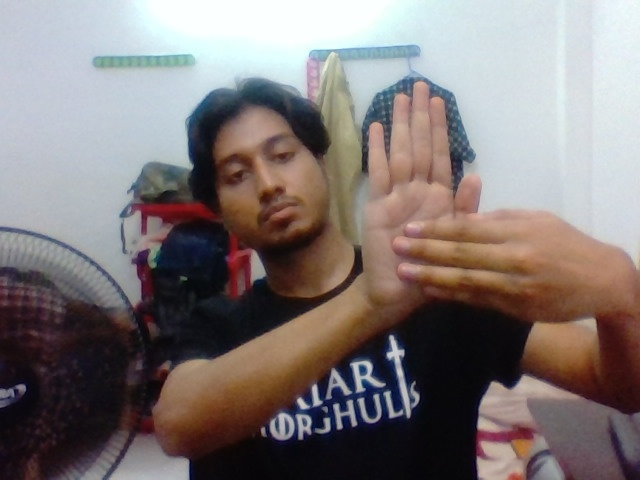H: (327, 80, 587, 341)
